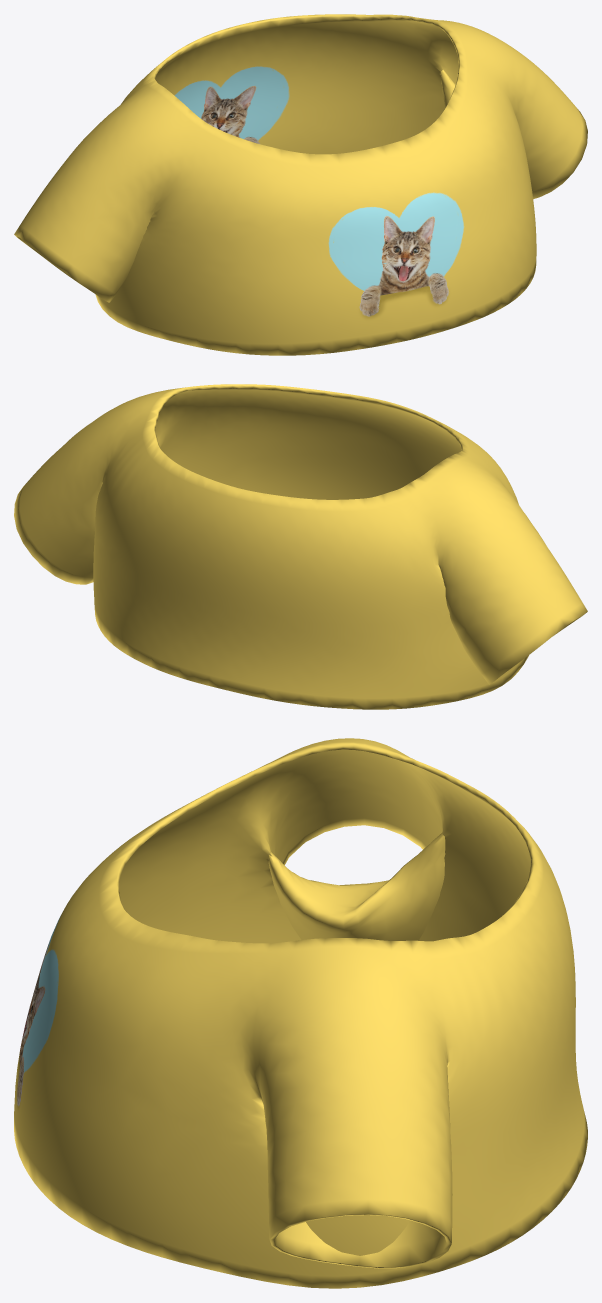
File: daniel_top.gltf
The picture shows the model from 3 angles, top to bottom: view 1: azimuth 30°, elevation 25°; view 2: azimuth 150°, elevation 25°; view 3: azimuth 270°, elevation 25°; orthographic projection. The views are drawn at different scales.
Parts seen in each view (by area): view 1: daniel_top; view 2: daniel_top; view 3: daniel_top.
Part boxes in pixels (x1,y1,x2,y2): daniel_top: (14, 14, 587, 355); daniel_top: (14, 384, 587, 709); daniel_top: (14, 738, 587, 1288).
Size of the model in its own units: 0.0471 by 0.0171 by 0.029.
Materials: 1 (1 with a texture image).
